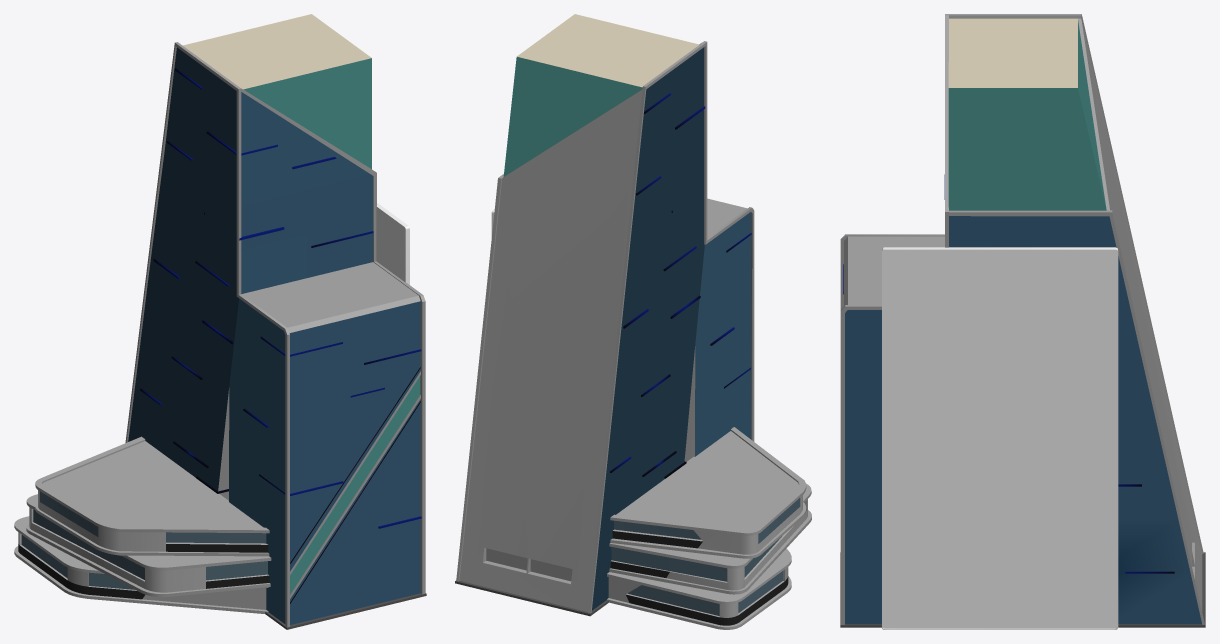
File: Building_002_2st_L0.fbx
3 renders of one model, left to right at view 1: azimuth 30°, elevation 25°; view 2: azimuth 150°, elevation 25°; view 3: azimuth 270°, elevation 25°, orthographic. The views are drawn at different scales.
Visible parts, largest first — view 1: Building_002_2st_L0; view 2: Building_002_2st_L0; view 3: Building_002_2st_L0.
Part boxes in pixels (x1,y1,x2,y2): Building_002_2st_L0: [14, 14, 426, 629]; Building_002_2st_L0: [455, 14, 811, 629]; Building_002_2st_L0: [840, 14, 1205, 629].
Bounding box in the file's own units: 38.58 × 68.8 × 42.06.
